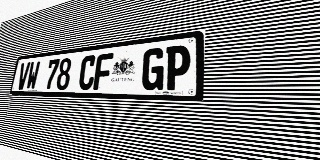7: (44, 59, 60, 90)
8: (55, 57, 73, 90)
C: (78, 55, 97, 90)
F: (93, 53, 114, 90)
G: (141, 47, 166, 90)
P: (164, 44, 191, 90)
V: (16, 62, 30, 90)
W: (25, 61, 40, 90)
